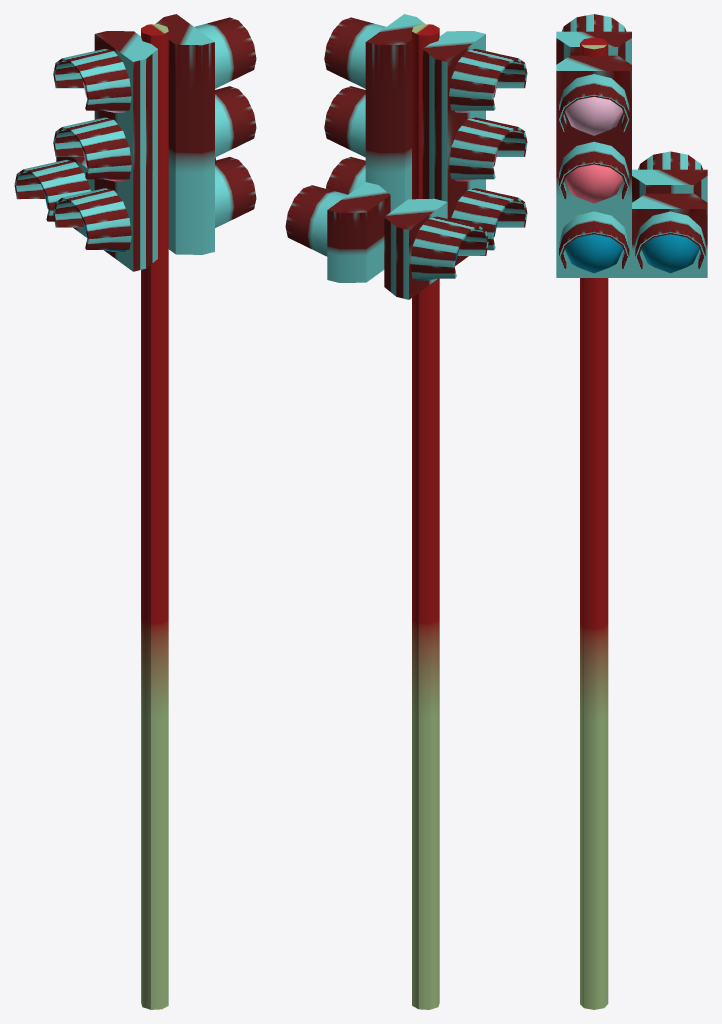
File: SM_TrafficLight.FBX
3 renders of one model, left to right at view 1: azimuth 30°, elevation 25°; view 2: azimuth 150°, elevation 25°; view 3: azimuth 270°, elevation 25°, orthographic.
Parts seen in each view (by area): view 1: SM_TraficLight_v01_000; view 2: SM_TraficLight_v01_000; view 3: SM_TraficLight_v01_000.
Part boxes in pixels (x1,y1,x2,y2): SM_TraficLight_v01_000: [14, 14, 256, 1009]; SM_TraficLight_v01_000: [285, 14, 527, 1009]; SM_TraficLight_v01_000: [556, 14, 707, 1009].
Bounding box in the file's own units: 0.8776 × 4.88 × 0.6973.
2 materials, 2 textured.
